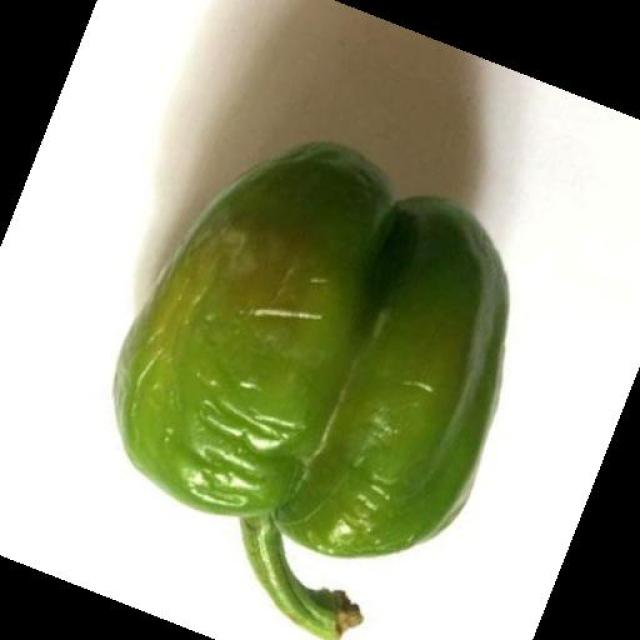Stale_Capsicum: (96, 135, 444, 511)
